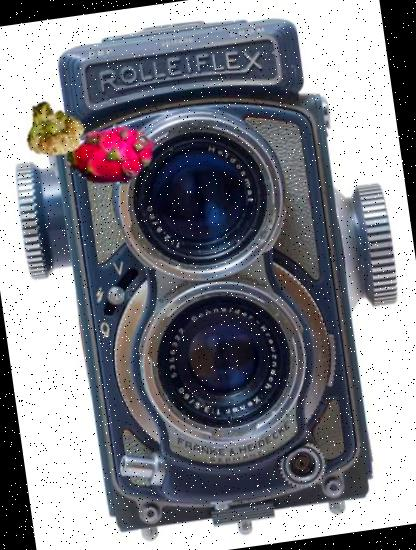Cauliflower: (21, 95, 89, 163)
Pitahaya: (61, 106, 164, 208)
